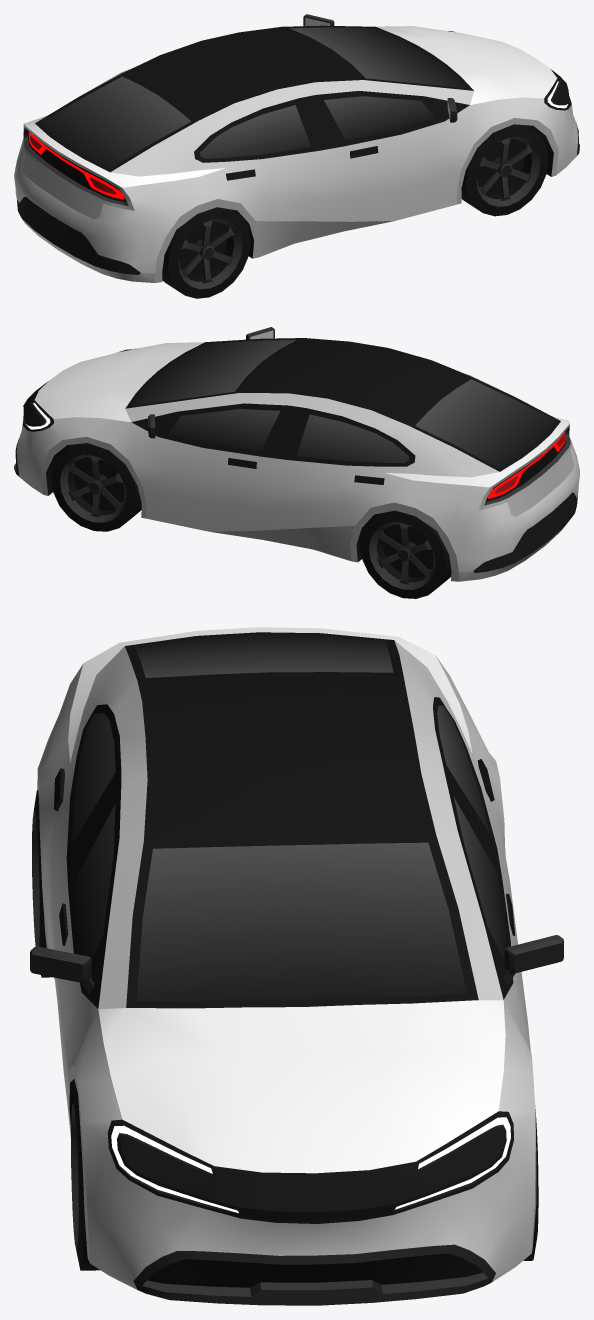
Rendered from Car_140.glb.
The picture shows the model from 3 angles, top to bottom: view 1: azimuth 30°, elevation 25°; view 2: azimuth 150°, elevation 25°; view 3: azimuth 270°, elevation 25°; orthographic projection. The views are drawn at different scales.
Parts seen in each view (by area): view 1: Car_140, wheel_2_Car_140_Wheel_3R, wheel_0_Car_140_Wheel_1R; view 2: Car_140, wheel_3_Car_140_Wheel_4L, wheel_1_Car_140_Wheel_2L; view 3: Car_140, wheel_0_Car_140_Wheel_1R, wheel_2_Car_140_Wheel_3R.
Boxes of the visible parts, x1,y1,x2,y2 form: Car_140: [14, 14, 579, 282]; wheel_2_Car_140_Wheel_3R: [162, 207, 250, 298]; wheel_0_Car_140_Wheel_1R: [461, 124, 548, 216]; Car_140: [14, 327, 579, 581]; wheel_3_Car_140_Wheel_4L: [360, 510, 451, 598]; wheel_1_Car_140_Wheel_2L: [51, 443, 141, 531]; Car_140: [30, 627, 563, 1305]; wheel_0_Car_140_Wheel_1R: [71, 1085, 99, 1270]; wheel_2_Car_140_Wheel_3R: [32, 790, 51, 977].
Size of the model in its own units: 4.61 by 1.43 by 2.13.
Materials: 2 (2 with a texture image).
